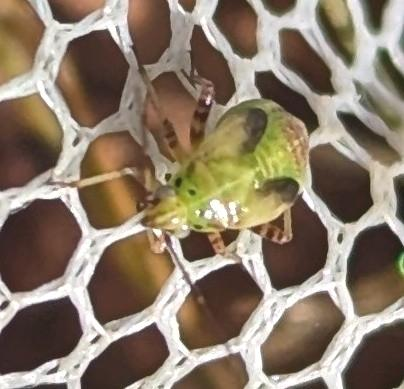plant_bugs: (31, 24, 380, 306)
